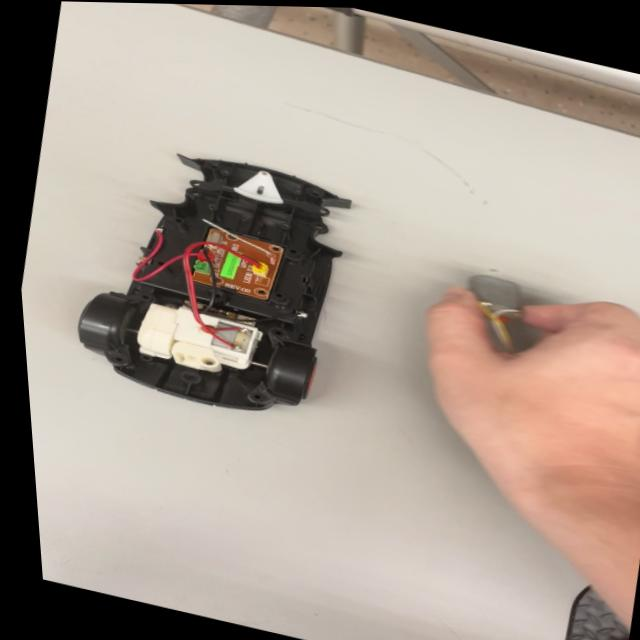Chassis: (56, 113, 381, 442)
motor: (442, 264, 541, 338)
